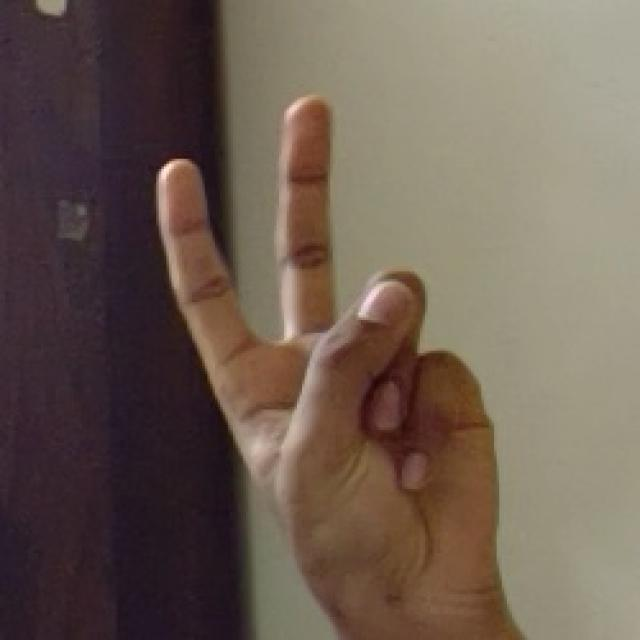Numeric-2: (155, 93, 501, 599)
